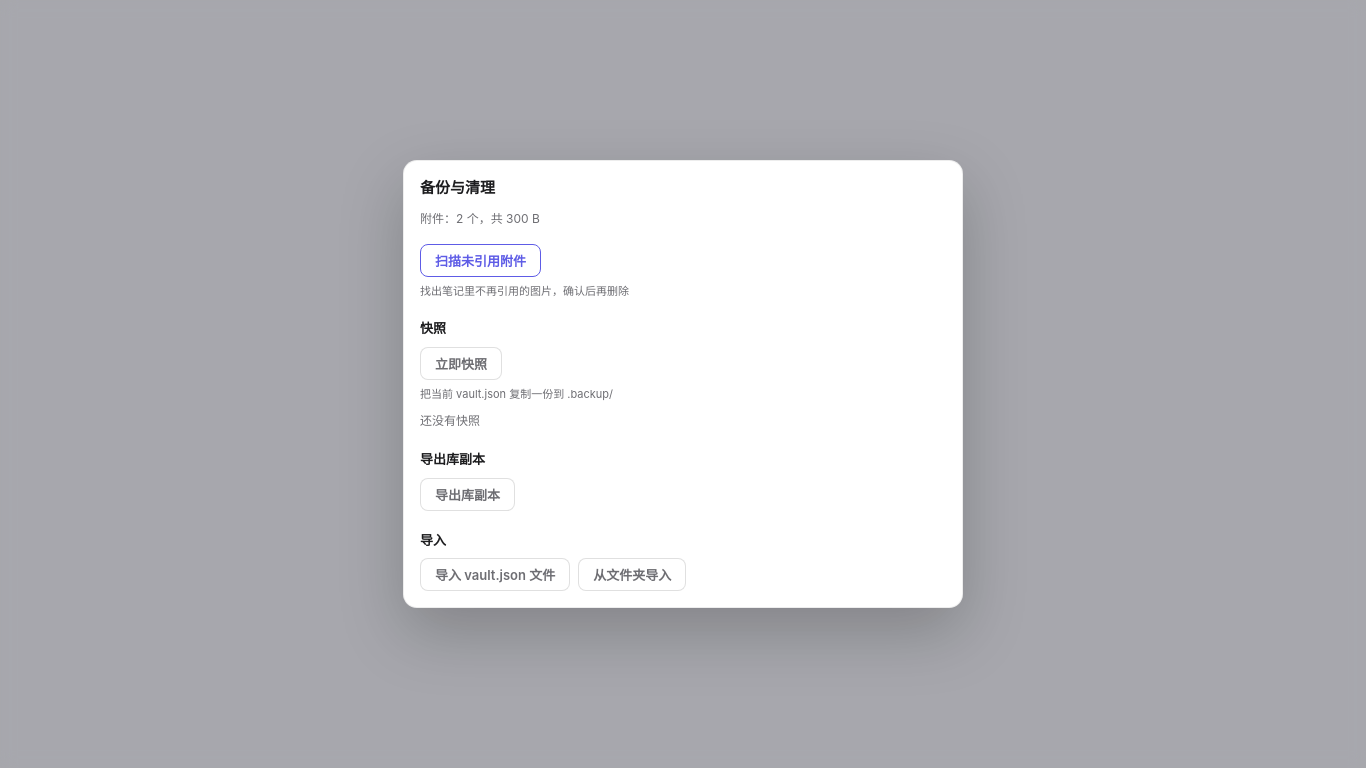
Test: T26-3 · 确认清理（第二次点击才真删） › 确认后把清单里的 id 全部交给 cleanup，并展示释放量
Click the button with test id "backup-gc-scan": (480, 260) [420,244,541,276]
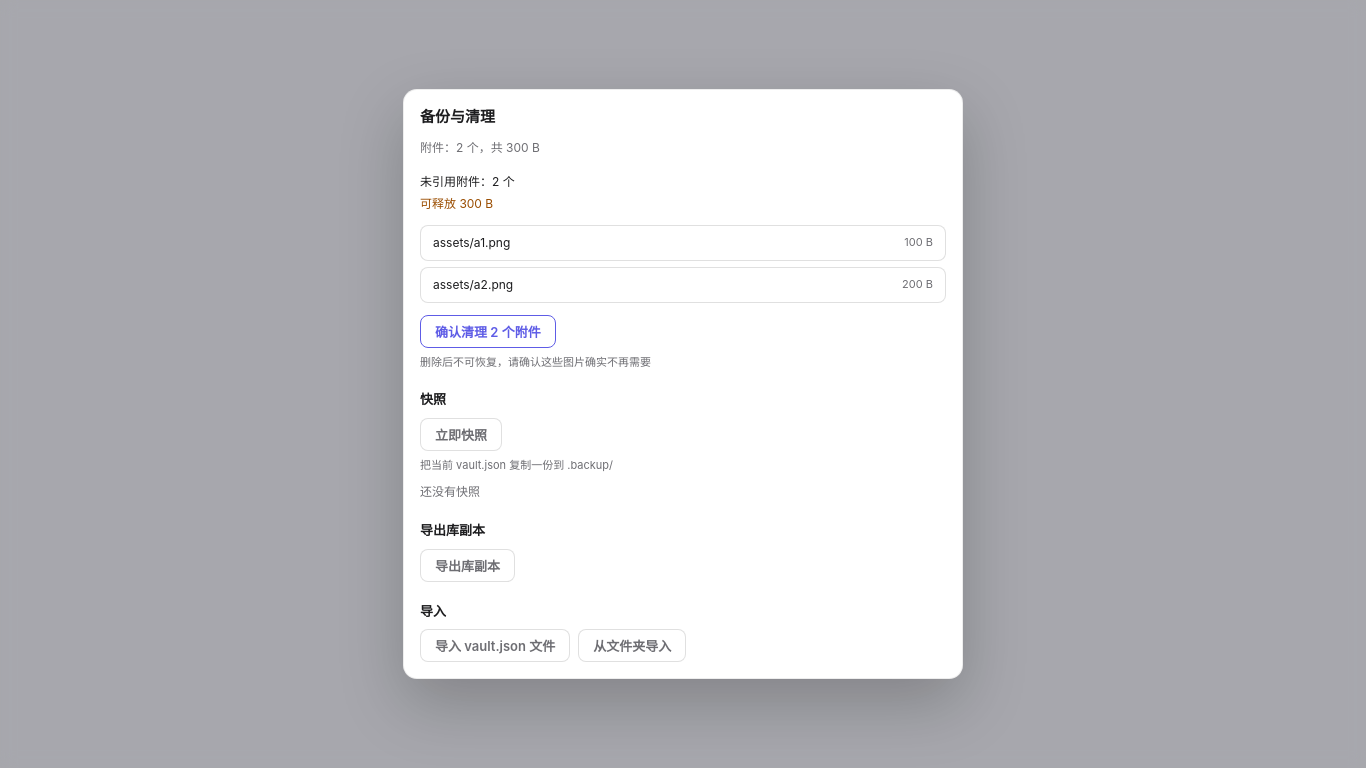
Click the button with test id "backup-gc-confirm": (488, 331) [420,314,556,348]
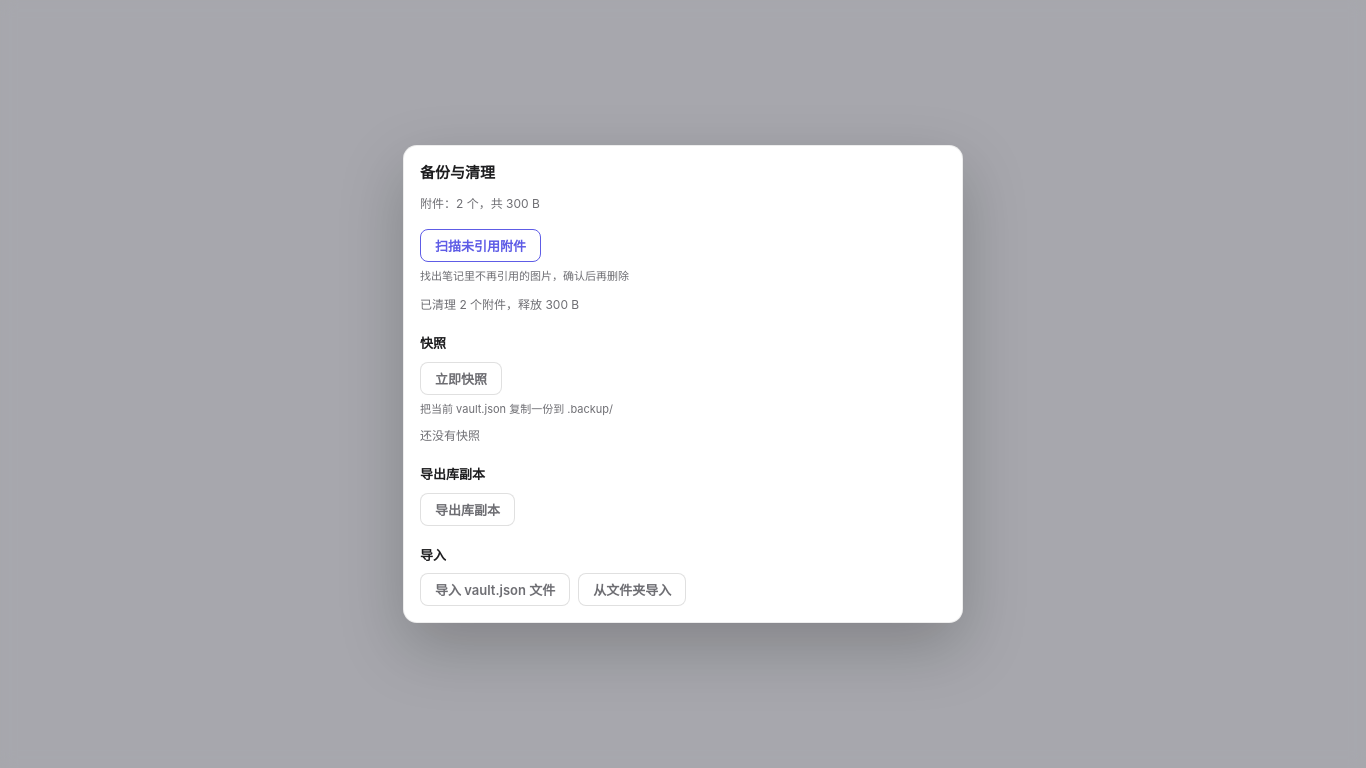
Check: the text with test id "backup-gc-status" shows "已清理 2 个附件", box [420,297,579,312]
